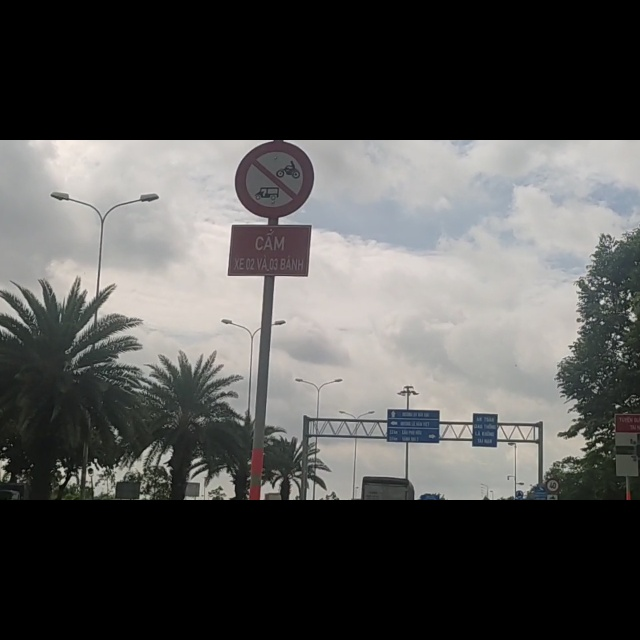bien_chi_dan: (231, 5, 317, 142)
